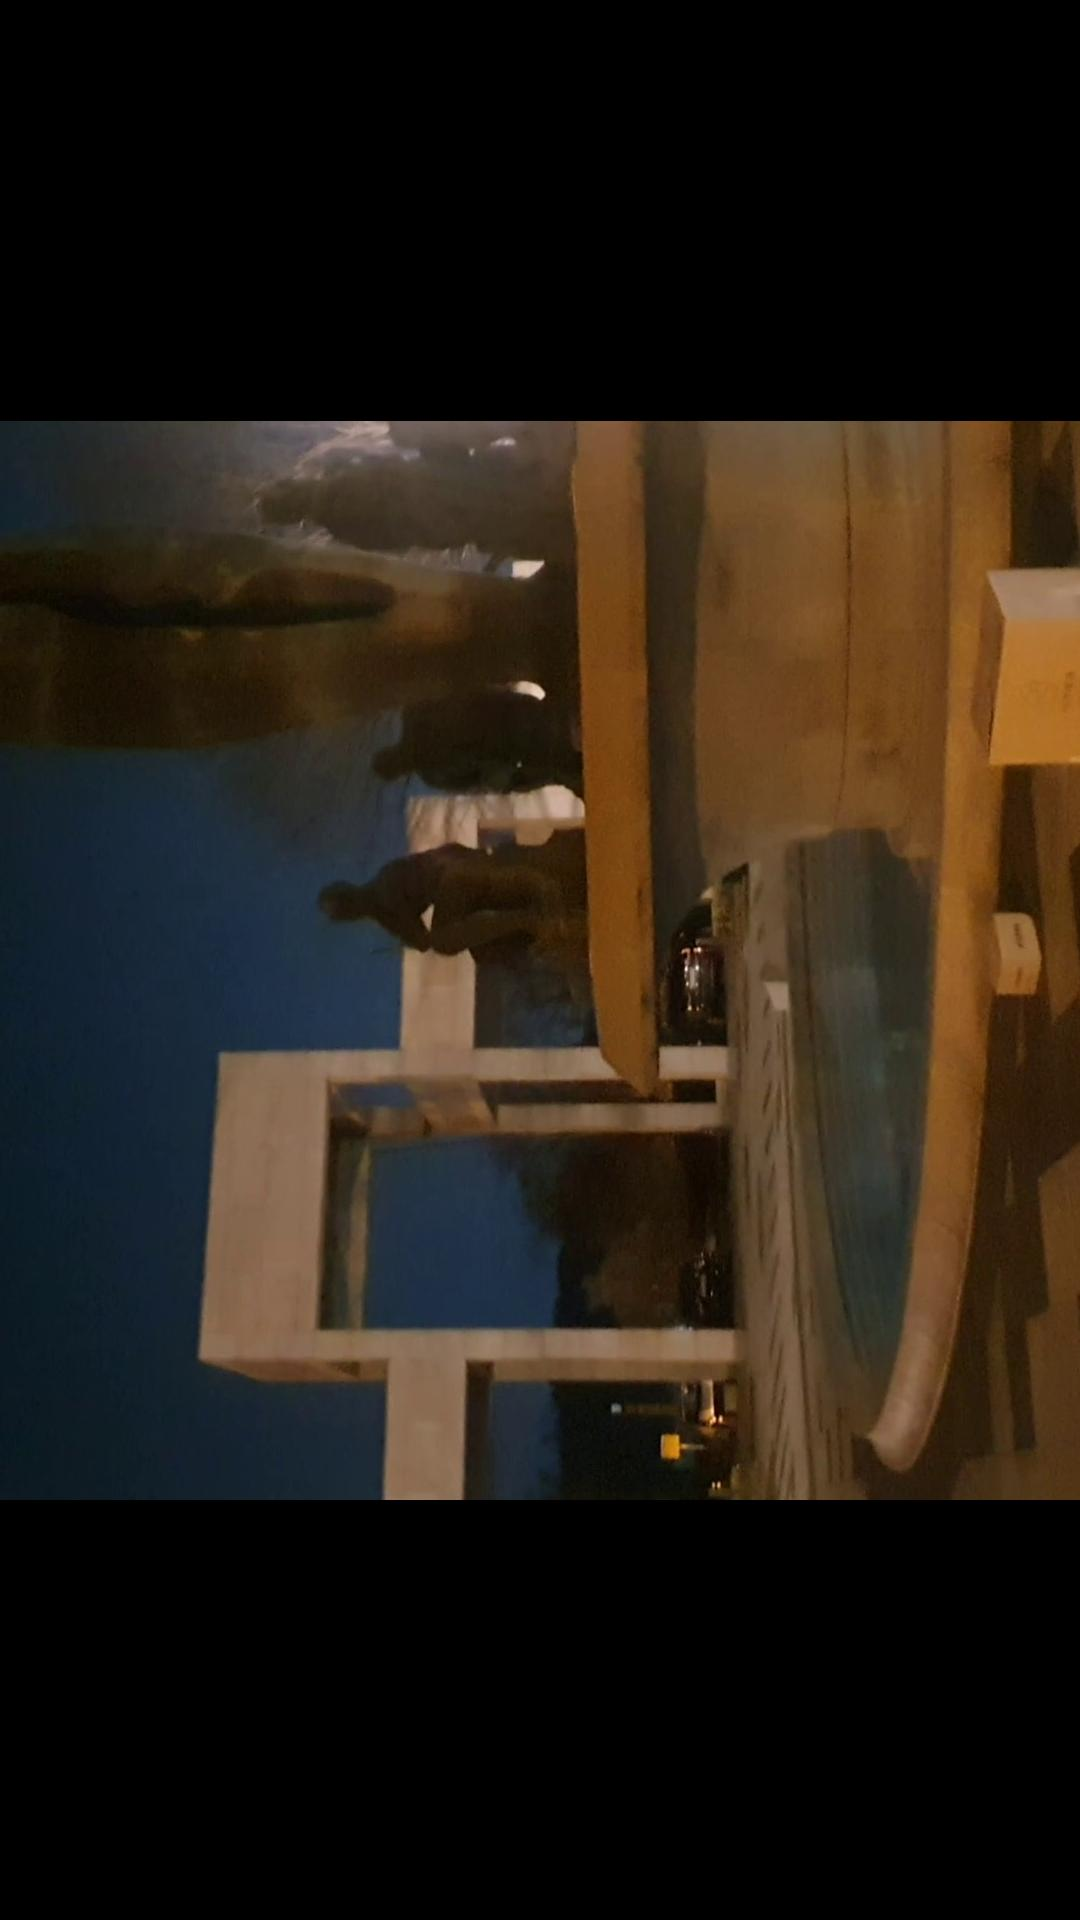Box: (955, 549, 1080, 774), (982, 902, 1055, 1009)
